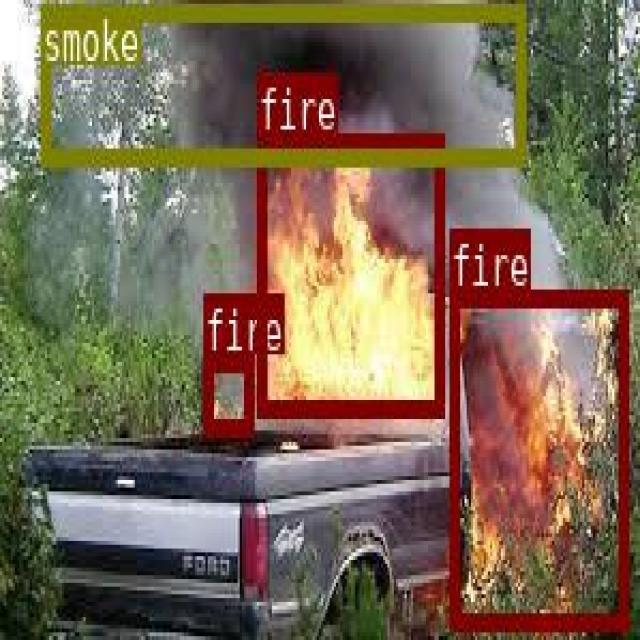fire: (449, 288, 627, 625), (255, 130, 442, 414), (203, 353, 252, 432)
smoke: (39, 1, 523, 161)
